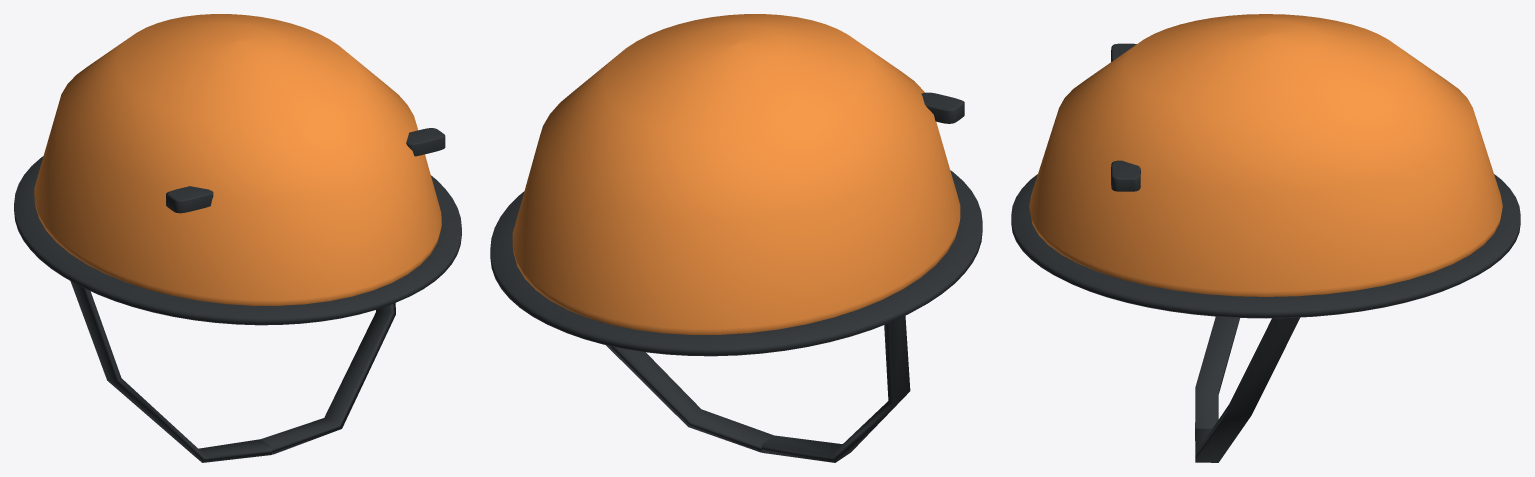
The model's file is 03-helmet.glb.
3 renders of one model, left to right at view 1: azimuth 30°, elevation 25°; view 2: azimuth 150°, elevation 25°; view 3: azimuth 270°, elevation 25°, orthographic. The views are drawn at different scales.
Parts seen in each view (by area): view 1: 03-helmet; view 2: 03-helmet; view 3: 03-helmet.
Part boxes in pixels (box(x1,y1,x2,y2)): 03-helmet: box(14, 14, 461, 462); 03-helmet: box(490, 14, 982, 462); 03-helmet: box(1011, 14, 1520, 462).
Bounding box in the file's own units: 0.264 × 0.2625 × 0.302.
